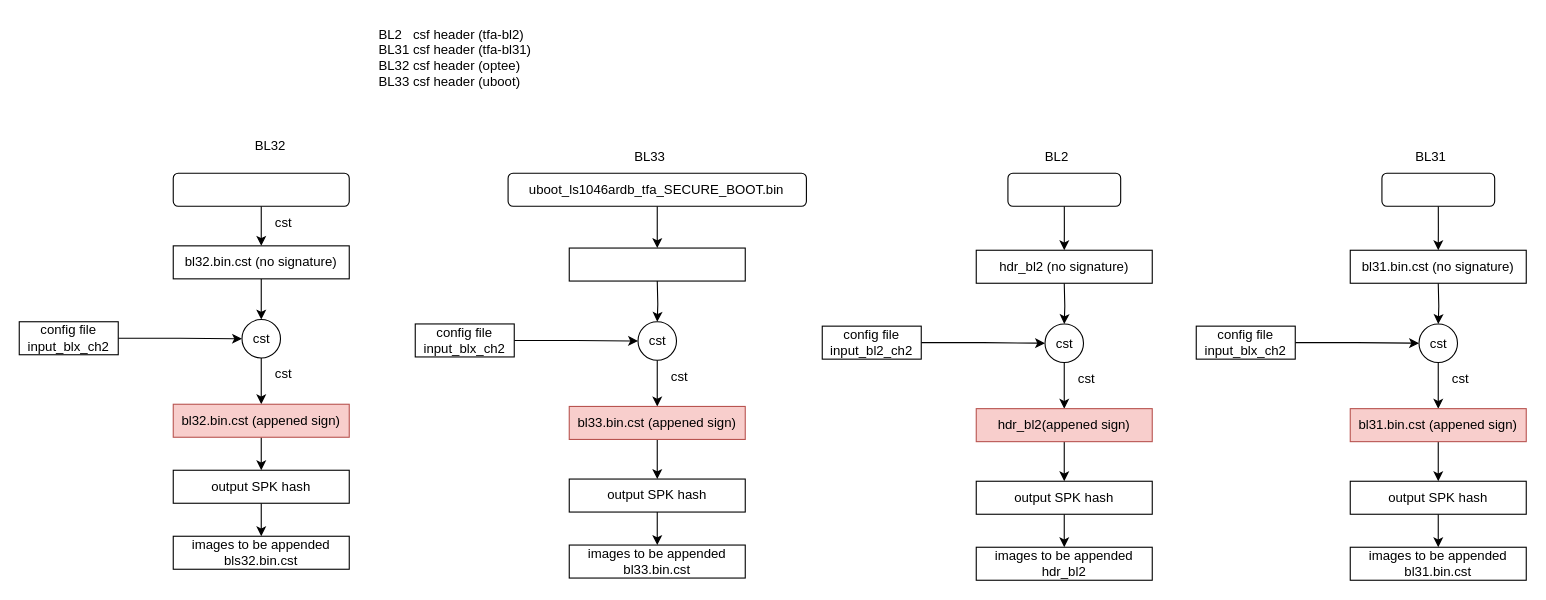
Some shapes in this 1546 by 600 pixel diagram are drawn without their labels. The shapes that lost their labels are listed below. From the top down, each one's box as (x1, y1, x2, y2) in pixels, then its label:
(172, 172, 349, 206): tee_ls1046ardb.bin
(1007, 172, 1121, 206): bl2.bin
(1381, 172, 1495, 206): bl31.bin
(568, 247, 745, 281): bl33.bin.cst (no signature)
